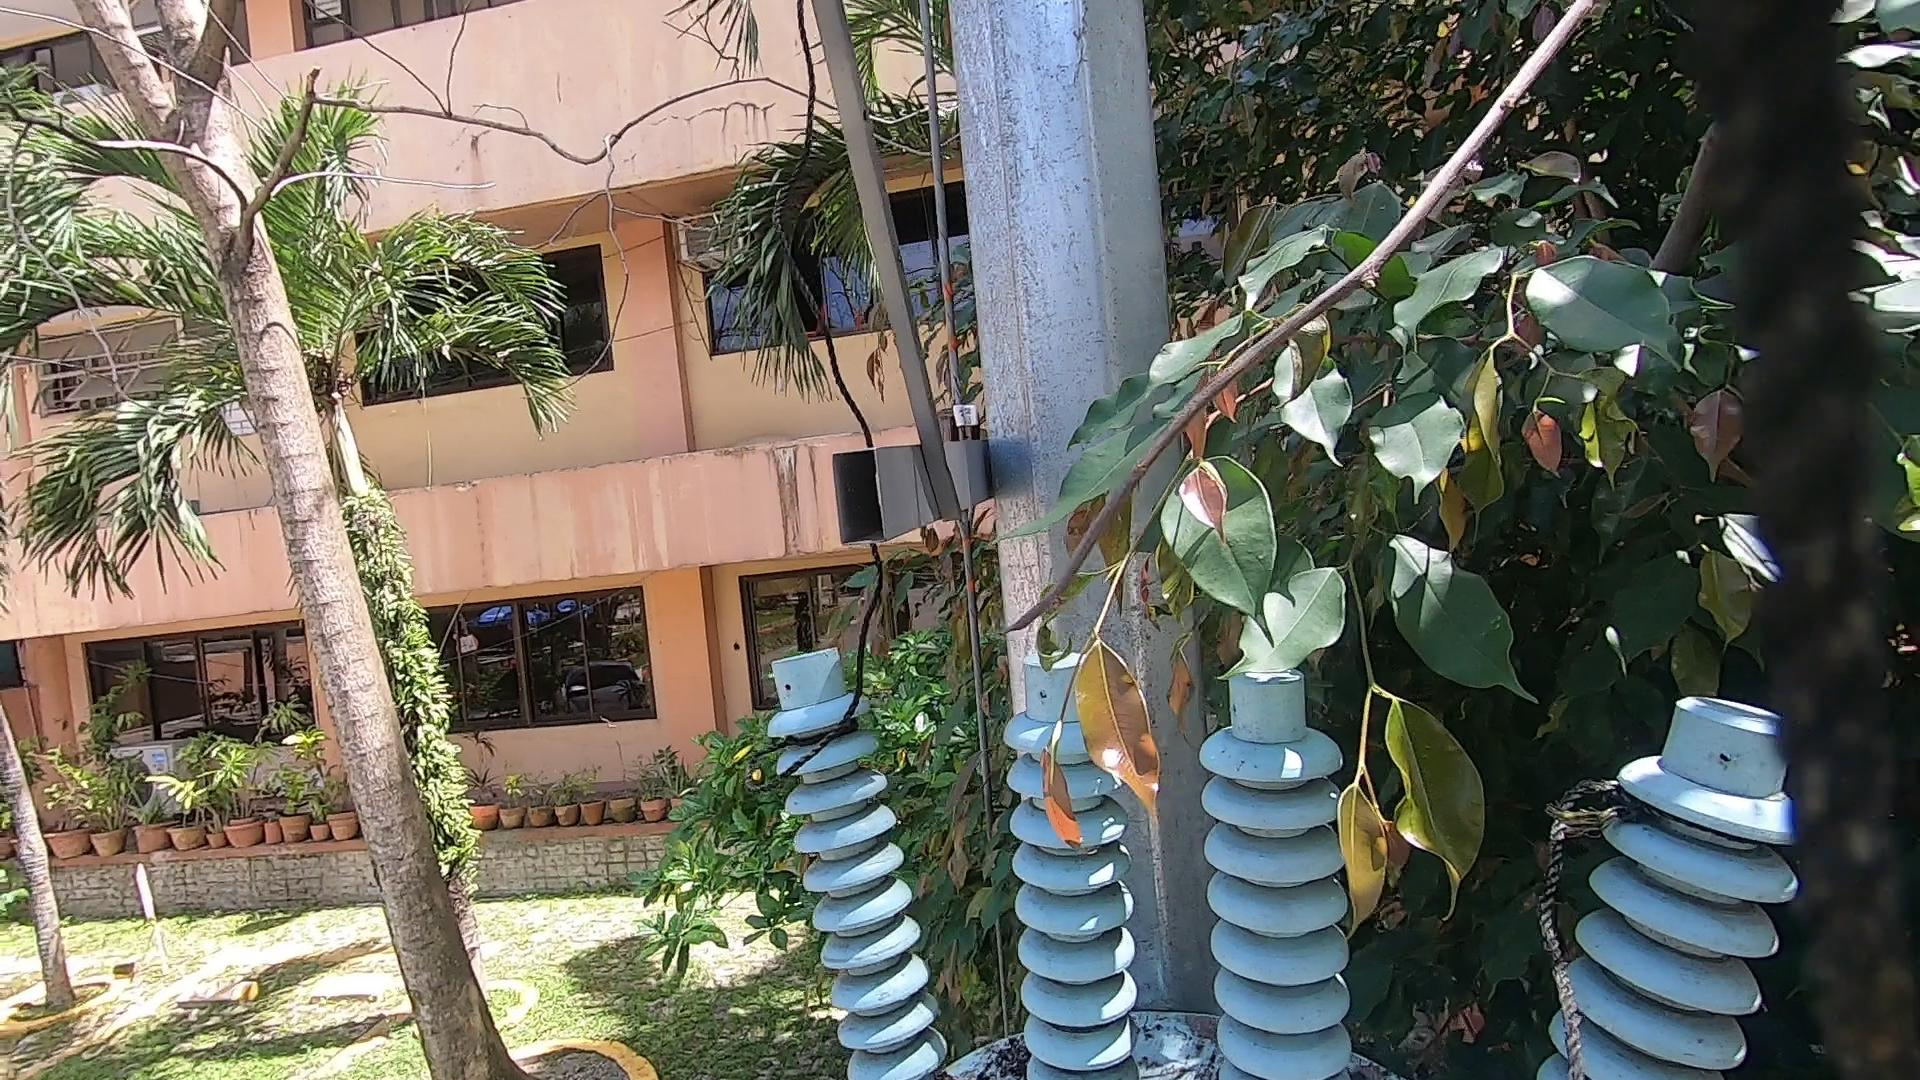tree branch: (997, 1, 1818, 636)
